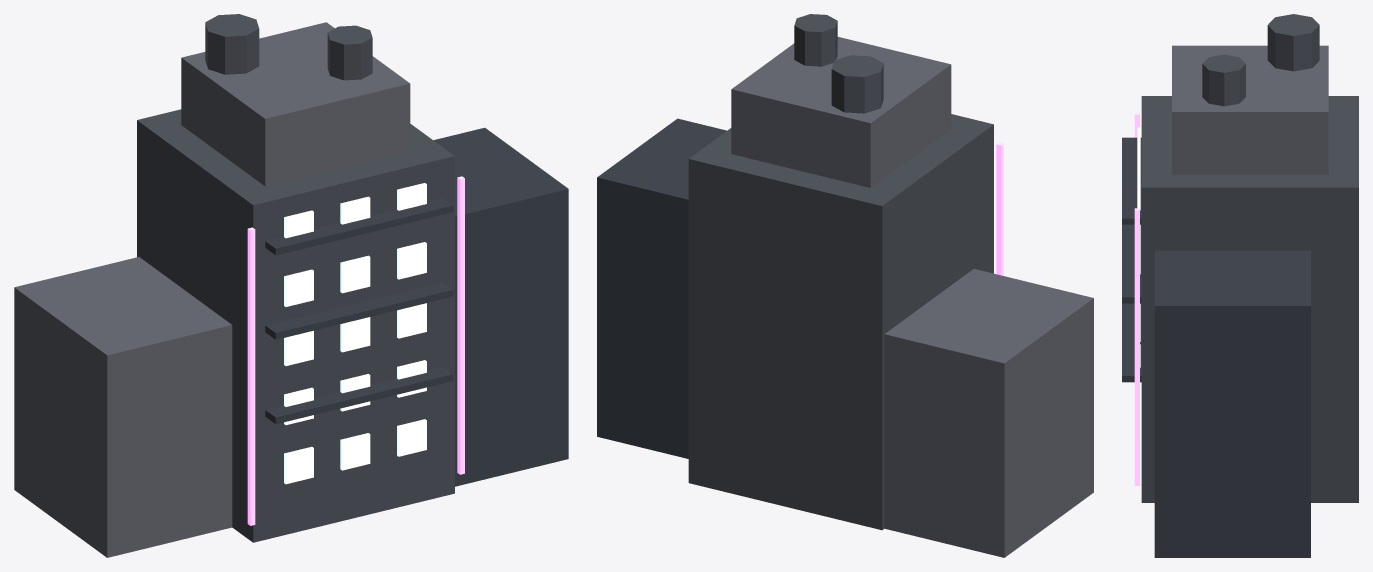
Rendered from mega_block.glb.
3 views of the same model, side by side, from view 1: azimuth 30°, elevation 25°; view 2: azimuth 150°, elevation 25°; view 3: azimuth 270°, elevation 25° (orthographic). The views are drawn at different scales.
Parts seen in each view (by area): view 1: mega_block; view 2: mega_block; view 3: mega_block.
Part boxes in pixels (x1,y1,x2,y2): mega_block: [14, 14, 568, 557]; mega_block: [597, 14, 1093, 557]; mega_block: [1122, 14, 1358, 557].
Bounding box in the file's own units: 5.55 × 5.25 × 2.72.
